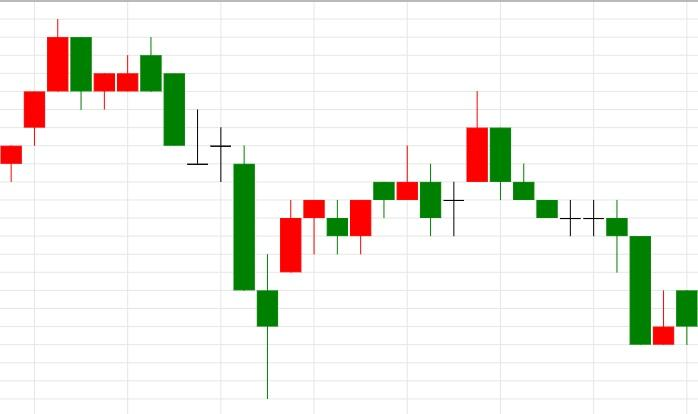bearish_engulfing_fall: (0, 18, 162, 182)
hanging_man_fall: (256, 199, 326, 399)
inverse_hammer_rise: (466, 91, 675, 346)
three_black_crows_fall: (326, 91, 559, 255)
